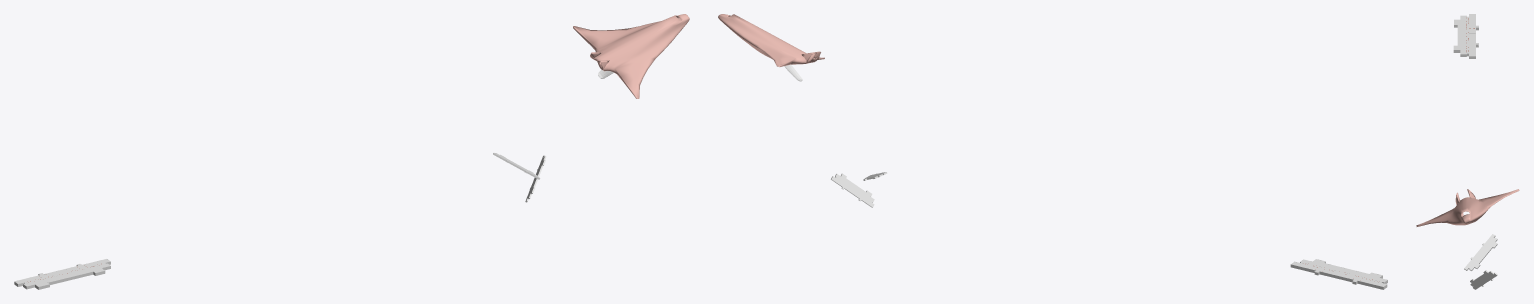
File: IKIT(4floor)(Fixed).fbx
The picture shows the model from 3 angles, left to right: view 1: azimuth 30°, elevation 25°; view 2: azimuth 150°, elevation 25°; view 3: azimuth 270°, elevation 25°; orthographic projection. The views are drawn at different scales.
Parts seen in each view (by area): view 1: Null.005, Plane.000; view 2: Null.005, Plane.000, Plane.003, Wall2fl; view 3: Null.005, Plane.000, Plane.005, Plane.003, Wall2fl.
Part boxes in pixels (x1,y1,x2,y2): Null.005: (573,14,689,98); Plane.000: (15,259,109,286); Null.005: (718,14,824,66); Plane.000: (1291,259,1386,286); Plane.003: (831,173,874,207); Wall2fl: (1290,259,1387,289); Null.005: (1416,189,1519,226); Plane.000: (1454,14,1478,55); Plane.005: (1464,234,1497,270); Plane.003: (1470,270,1497,289); Wall2fl: (1453,14,1478,58).
Bounding box in the file's own units: 47399 × 10469 × 6776.
